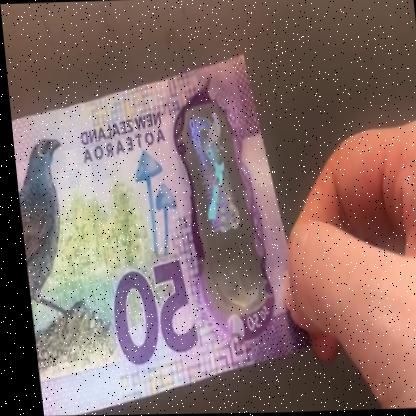50B: (184, 106, 264, 303)
